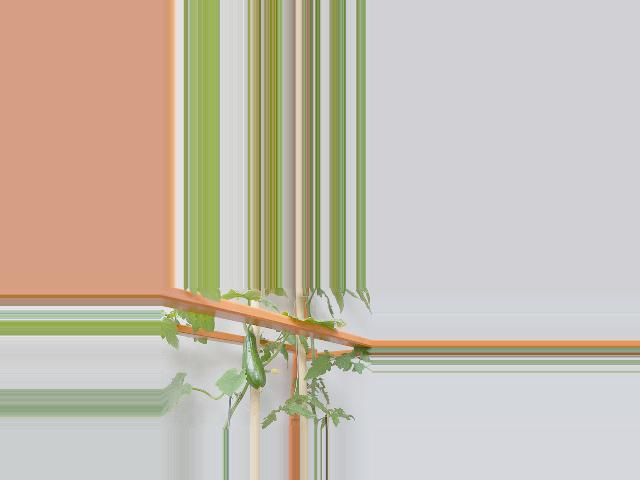cucumber: (242, 333, 266, 393)
